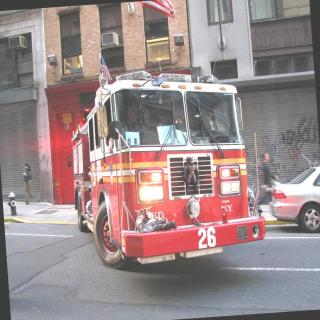Fire_truck: (65, 62, 268, 272)
